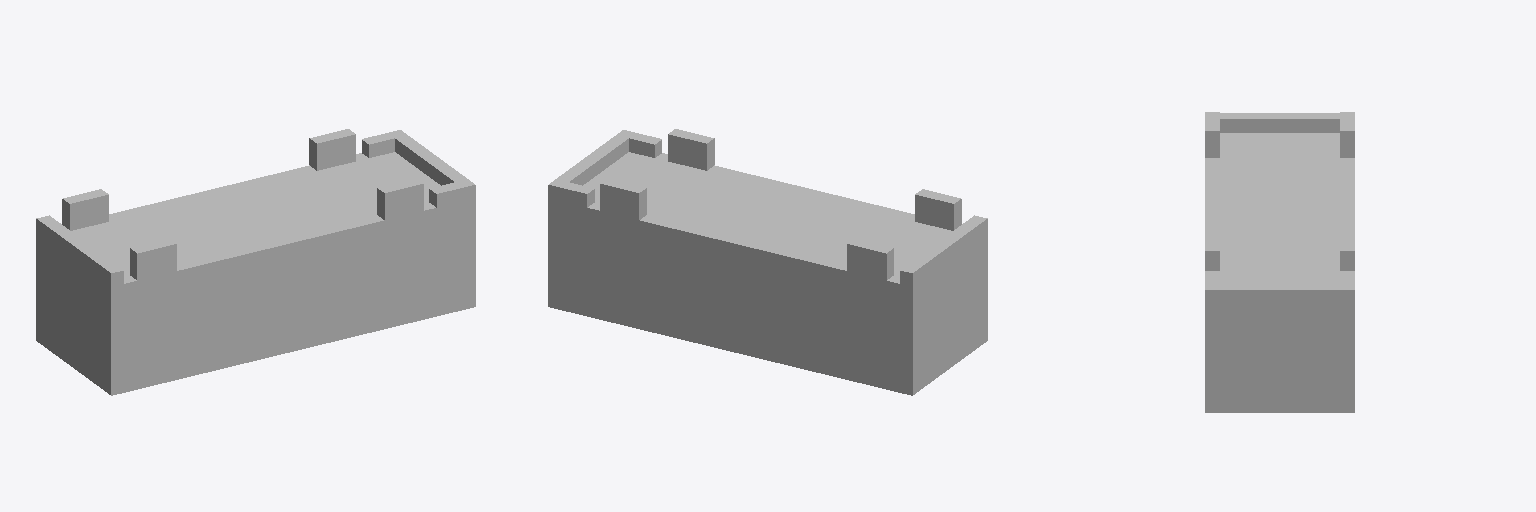
File: bus.obj
3 views of the same model, side by side, from view 1: azimuth 30°, elevation 25°; view 2: azimuth 150°, elevation 25°; view 3: azimuth 270°, elevation 25° (orthographic).
Size of the model in its own units: 28 by 10 by 10.